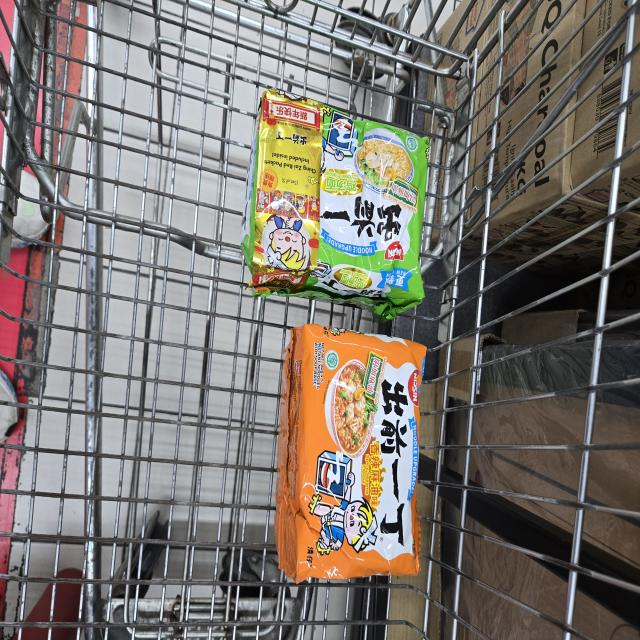instant-noodle: (245, 81, 428, 322), (273, 324, 429, 582)
